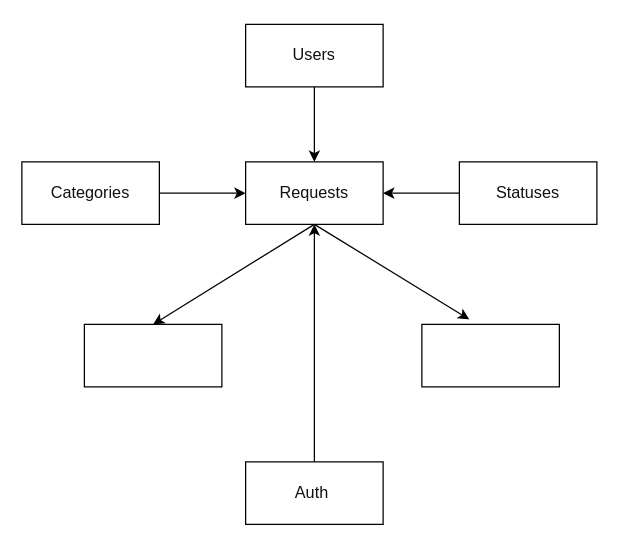
The diagram is 619 pixels wide and 549 high, and some of its shapes have lost their labels. Here are the shapes that lost their labels. From the top down, the centre of each, then its label:
At point 152,355: "Comments".
At point 490,355: "Reports".
